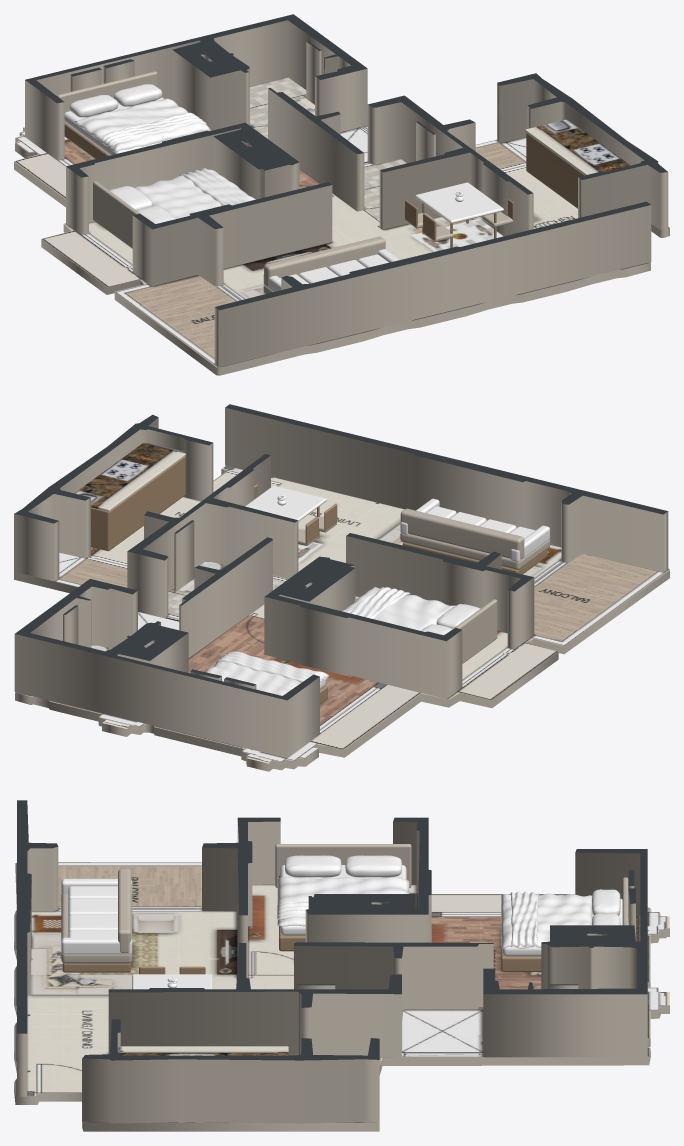
The picture shows the model from 3 angles, top to bottom: view 1: azimuth 30°, elevation 25°; view 2: azimuth 150°, elevation 25°; view 3: azimuth 270°, elevation 25°; orthographic projection. The views are drawn at different scales.
Parts seen in each view (by area): view 1: Partition walls, Apartment floor, Draped bed linen, Stone worktop, Draped bed linen.002, Sofa back, Kitchen cabinets, Marble dining top, Upholstered headboard.001, Draped bed linen.001, Upholstered headboard, Draped bed linen.003 (+5 smaller); view 2: Partition walls, Apartment floor, Kitchen cabinets, Stone worktop, Sofa back, Draped bed linen.002, Marble dining top, Draped bed linen, Upholstered headboard.001, Upholstered sofa frame, Draped bed linen.001, Draped bed linen.003 (+3 smaller); view 3: Partition walls, Apartment floor, Draped bed linen.002, Draped bed linen, Upholstered headboard.001, Stone worktop, Draped bed linen.001, Tailored pillow.002, Tailored pillow.003, Upholstered sofa frame, Sofa back, Padded armrest.001 (+10 smaller).
Boxes of the visible parts, x1=… form: Partition walls: x1=25, y1=14, x2=668, y2=367; Apartment floor: x1=14, y1=77, x2=669, y2=375; Draped bed linen: x1=74, y1=98, x2=210, y2=152; Stone worktop: x1=525, y1=119, x2=630, y2=175; Draped bed linen.002: x1=134, y1=169, x2=255, y2=218; Sofa back: x1=264, y1=236, x2=385, y2=286; Kitchen cabinets: x1=526, y1=133, x2=584, y2=208; Marble dining top: x1=415, y1=182, x2=503, y2=223; Upholstered headboard.001: x1=93, y1=181, x2=148, y2=248; Draped bed linen.001: x1=98, y1=112, x2=206, y2=148; Upholstered headboard: x1=57, y1=71, x2=157, y2=112; Draped bed linen.003: x1=179, y1=168, x2=249, y2=205; Partition walls: x1=14, y1=404, x2=668, y2=758; Apartment floor: x1=14, y1=465, x2=669, y2=771; Kitchen cabinets: x1=91, y1=456, x2=185, y2=551; Stone worktop: x1=74, y1=443, x2=186, y2=511; Sofa back: x1=400, y1=508, x2=524, y2=559; Draped bed linen.002: x1=341, y1=586, x2=455, y2=630; Marble dining top: x1=245, y1=485, x2=326, y2=521; Draped bed linen: x1=205, y1=652, x2=329, y2=695; Upholstered headboard.001: x1=449, y1=599, x2=497, y2=663; Upholstered sofa frame: x1=400, y1=533, x2=550, y2=570; Draped bed linen.001: x1=216, y1=651, x2=325, y2=682; Draped bed linen.003: x1=346, y1=586, x2=410, y2=618; Partition walls: x1=17, y1=800, x2=647, y2=1123; Apartment floor: x1=14, y1=862, x2=669, y2=1131; Draped bed linen.002: x1=277, y1=876, x2=409, y2=926; Draped bed linen: x1=501, y1=893, x2=592, y2=948; Upholstered headboard.001: x1=275, y1=844, x2=411, y2=887; Stone worktop: x1=117, y1=1046, x2=288, y2=1055; Draped bed linen.001: x1=510, y1=891, x2=538, y2=947; Tailored pillow.002: x1=285, y1=855, x2=341, y2=877; Tailored pillow.003: x1=345, y1=855, x2=401, y2=877; Upholstered sofa frame: x1=61, y1=894, x2=132, y2=963; Sofa back: x1=118, y1=868, x2=131, y2=952; Padded armrest.001: x1=61, y1=937, x2=132, y2=954.
Bounding box in the file's own units: 10.15 × 1.3 × 10.76.
Materials: 9 (1 with a texture image).
